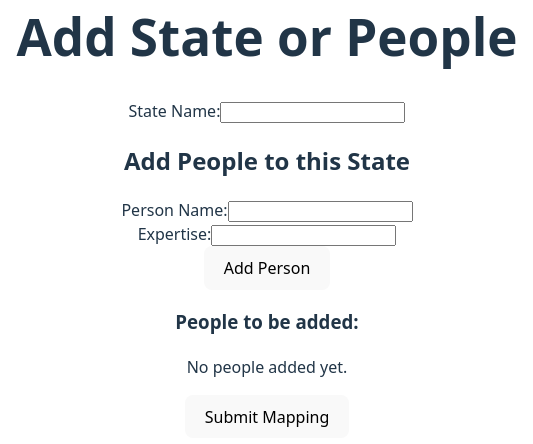
Test: Add › adds a person to the list successfully
In the field labelled "Person Name:": point(320, 212) top-left (228, 201), bottom-right (412, 222), type "John Doe"
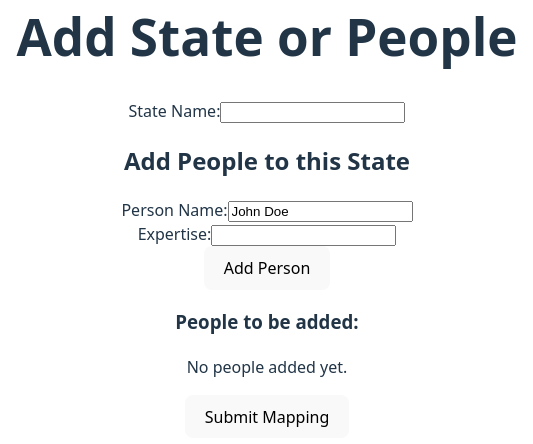
In the field labelled "Expertise:": point(304, 236) top-left (211, 225), bottom-right (396, 246), type "Frontend Developer"
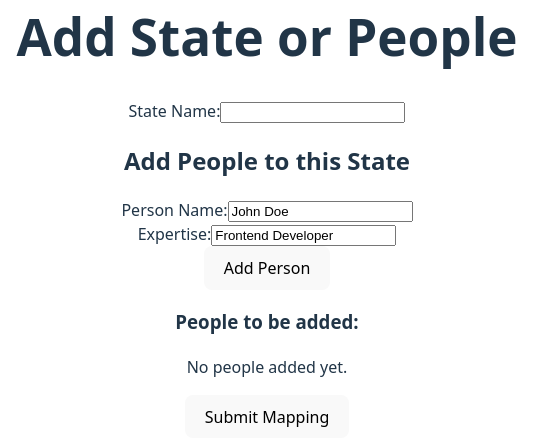
Click the button "Add Person": point(267, 268) top-left (204, 246), bottom-right (330, 290)
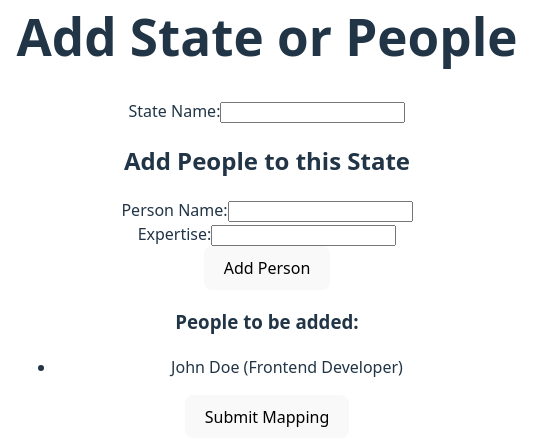
Now the list item "John Doe (Frontend Developer)" is shown, box top-left (171, 356), bottom-right (403, 378)
Now the field labelled "Person Name:" is empty, box top-left (228, 201), bottom-right (412, 222)
Now the field labelled "Expertise:" is empty, box top-left (211, 225), bottom-right (396, 246)
